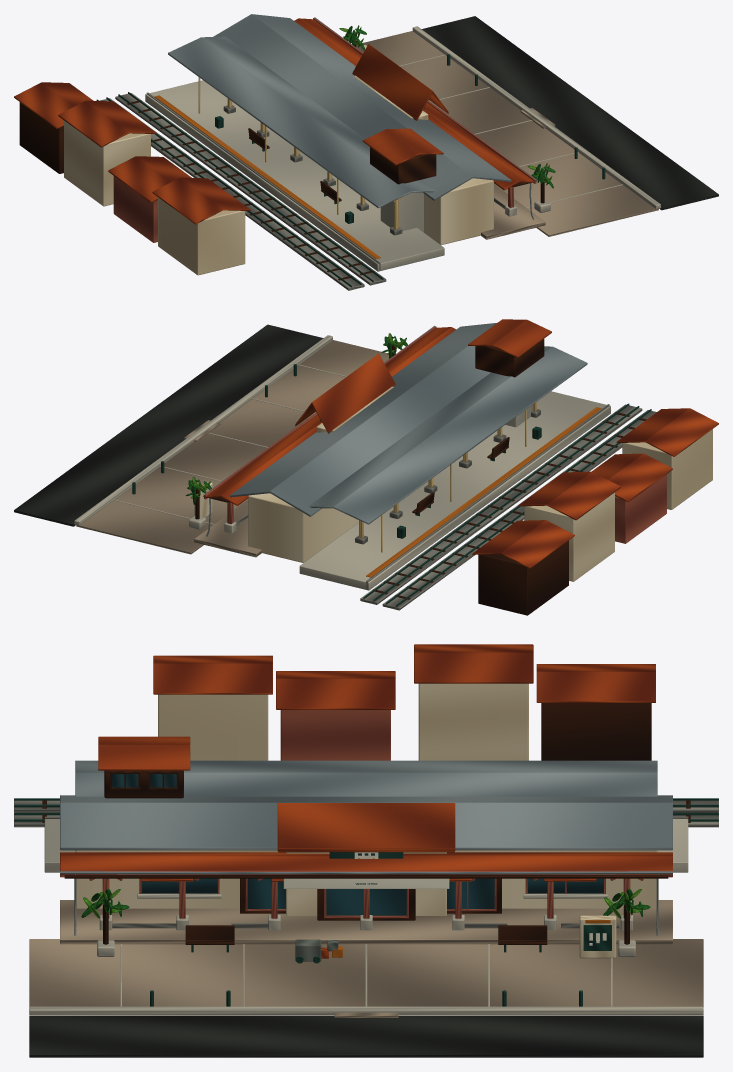
File: HNP_Map007_Station_LOD0_v003.fbx
3 renders of one model, top to bottom at view 1: azimuth 30°, elevation 25°; view 2: azimuth 150°, elevation 25°; view 3: azimuth 270°, elevation 25°, orthographic. The views are drawn at different scales.
Parts seen in each view (by area): view 1: MAP007_STATION_LOD0_S0_MAT_Galvanized_Roof, MAP007_STATION_LOD0_S1_MAT_Forecourt_Paver, MAP007_STATION_LOD0_S0_MAT_Concrete_Light, MAP007_STATION_LOD0_S1_MAT_Asphalt, MAP007_STATION_LOD0_S-1_MAT_Terracotta_Roof, MAP007_STATION_LOD0_S-1_MAT_Station_WarmPlaster, MAP007_STATION_LOD0_S0_MAT_Terracotta_Roof, MAP007_STATION_LOD0_S-1_MAT_Concrete_Aged, MAP007_STATION_LOD0_S0_MAT_Station_WarmPlaster, MAP007_STATION_LOD0_S-1_MAT_Aged_Timber, MAP007_STATION_LOD0_S1_MAT_Concrete_Light, MAP007_STATION_LOD0_S-1_MAT_Painted_Steel_Green (+8 smaller); view 2: MAP007_STATION_LOD0_S0_MAT_Galvanized_Roof, MAP007_STATION_LOD0_S1_MAT_Forecourt_Paver, MAP007_STATION_LOD0_S0_MAT_Concrete_Light, MAP007_STATION_LOD0_S1_MAT_Asphalt, MAP007_STATION_LOD0_S-1_MAT_Terracotta_Roof, MAP007_STATION_LOD0_S0_MAT_Terracotta_Roof, MAP007_STATION_LOD0_S-1_MAT_Concrete_Aged, MAP007_STATION_LOD0_S-1_MAT_Station_WarmPlaster, MAP007_STATION_LOD0_S-1_MAT_Aged_Timber, MAP007_STATION_LOD0_S0_MAT_Station_WarmPlaster, MAP007_STATION_LOD0_S1_MAT_Concrete_Light, MAP007_STATION_LOD0_S-1_MAT_Painted_Steel_Green (+7 smaller); view 3: MAP007_STATION_LOD0_S0_MAT_Galvanized_Roof, MAP007_STATION_LOD0_S1_MAT_Forecourt_Paver, MAP007_STATION_LOD0_S1_MAT_Asphalt, MAP007_STATION_LOD0_S0_MAT_Terracotta_Roof, MAP007_STATION_LOD0_S-1_MAT_Terracotta_Roof, MAP007_STATION_LOD0_S-1_MAT_Station_WarmPlaster, MAP007_STATION_LOD0_S0_MAT_Forecourt_Paver, MAP007_STATION_LOD0_S0_MAT_Station_WarmPlaster, MAP007_STATION_LOD0_S0_MAT_Aged_Timber, MAP007_STATION_LOD0_S1_MAT_Concrete_Light, MAP007_STATION_LOD0_S0_MAT_Window_Glass, MAP007_STATION_LOD0_S-1_MAT_Aged_Timber (+10 smaller).
Boxes of the visible parts, left/top/right/bottom form: MAP007_STATION_LOD0_S0_MAT_Galvanized_Roof: left=168, top=14, right=536, bottom=219; MAP007_STATION_LOD0_S1_MAT_Forecourt_Paver: left=356, top=31, right=658, bottom=236; MAP007_STATION_LOD0_S0_MAT_Concrete_Light: left=145, top=80, right=550, bottom=271; MAP007_STATION_LOD0_S1_MAT_Asphalt: left=421, top=16, right=718, bottom=210; MAP007_STATION_LOD0_S-1_MAT_Terracotta_Roof: left=14, top=82, right=250, bottom=224; MAP007_STATION_LOD0_S-1_MAT_Station_WarmPlaster: left=64, top=120, right=245, bottom=275; MAP007_STATION_LOD0_S0_MAT_Terracotta_Roof: left=294, top=18, right=535, bottom=190; MAP007_STATION_LOD0_S-1_MAT_Concrete_Aged: left=99, top=92, right=386, bottom=290; MAP007_STATION_LOD0_S0_MAT_Station_WarmPlaster: left=354, top=44, right=493, bottom=245; MAP007_STATION_LOD0_S-1_MAT_Aged_Timber: left=19, top=100, right=374, bottom=280; MAP007_STATION_LOD0_S1_MAT_Concrete_Light: left=399, top=26, right=660, bottom=208; MAP007_STATION_LOD0_S-1_MAT_Painted_Steel_Green: left=96, top=92, right=383, bottom=287; MAP007_STATION_LOD0_S0_MAT_Galvanized_Roof: left=203, top=322, right=587, bottom=536; MAP007_STATION_LOD0_S1_MAT_Forecourt_Paver: left=76, top=340, right=388, bottom=554; MAP007_STATION_LOD0_S0_MAT_Concrete_Light: left=189, top=391, right=610, bottom=590; MAP007_STATION_LOD0_S1_MAT_Asphalt: left=14, top=324, right=323, bottom=526; MAP007_STATION_LOD0_S-1_MAT_Terracotta_Roof: left=472, top=408, right=718, bottom=568; MAP007_STATION_LOD0_S0_MAT_Terracotta_Roof: left=205, top=319, right=551, bottom=505; MAP007_STATION_LOD0_S-1_MAT_Concrete_Aged: left=360, top=404, right=656, bottom=610; MAP007_STATION_LOD0_S-1_MAT_Station_WarmPlaster: left=524, top=429, right=712, bottom=581; MAP007_STATION_LOD0_S-1_MAT_Aged_Timber: left=372, top=412, right=646, bottom=615; MAP007_STATION_LOD0_S0_MAT_Station_WarmPlaster: left=194, top=386, right=393, bottom=562; MAP007_STATION_LOD0_S1_MAT_Concrete_Light: left=74, top=335, right=346, bottom=525; MAP007_STATION_LOD0_S-1_MAT_Painted_Steel_Green: left=363, top=403, right=651, bottom=606; MAP007_STATION_LOD0_S0_MAT_Galvanized_Roof: left=60, top=760, right=672, bottom=935; MAP007_STATION_LOD0_S1_MAT_Forecourt_Paver: left=29, top=939, right=703, bottom=1017; MAP007_STATION_LOD0_S1_MAT_Asphalt: left=29, top=1016, right=703, bottom=1057; MAP007_STATION_LOD0_S0_MAT_Terracotta_Roof: left=60, top=736, right=672, bottom=958; MAP007_STATION_LOD0_S-1_MAT_Terracotta_Roof: left=153, top=644, right=655, bottom=709; MAP007_STATION_LOD0_S-1_MAT_Station_WarmPlaster: left=158, top=683, right=528, bottom=760; MAP007_STATION_LOD0_S0_MAT_Forecourt_Paver: left=60, top=900, right=672, bottom=944; MAP007_STATION_LOD0_S0_MAT_Station_WarmPlaster: left=75, top=850, right=657, bottom=958; MAP007_STATION_LOD0_S0_MAT_Aged_Timber: left=64, top=770, right=668, bottom=944; MAP007_STATION_LOD0_S1_MAT_Concrete_Light: left=29, top=944, right=703, bottom=1015; MAP007_STATION_LOD0_S0_MAT_Window_Glass: left=112, top=774, right=603, bottom=915; MAP007_STATION_LOD0_S-1_MAT_Aged_Timber: left=42, top=703, right=690, bottom=822.
Size of the model in its own units: 4990 by 917 by 4600.
